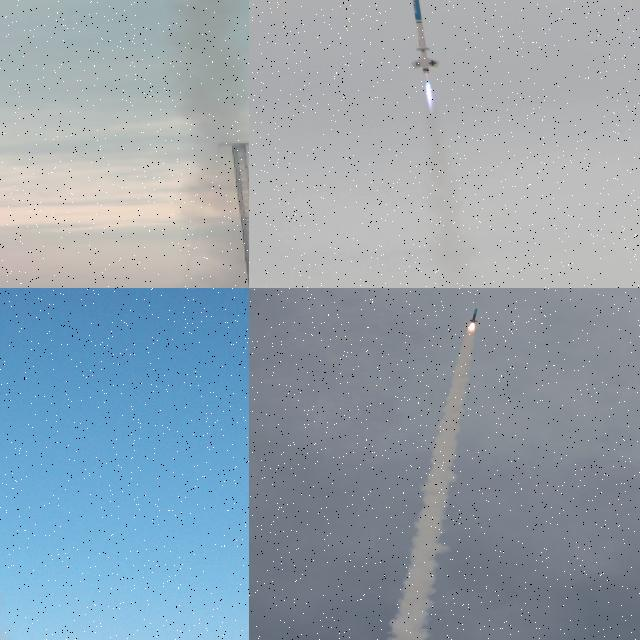Rocket: (403, 0, 441, 75), (469, 308, 478, 323)
